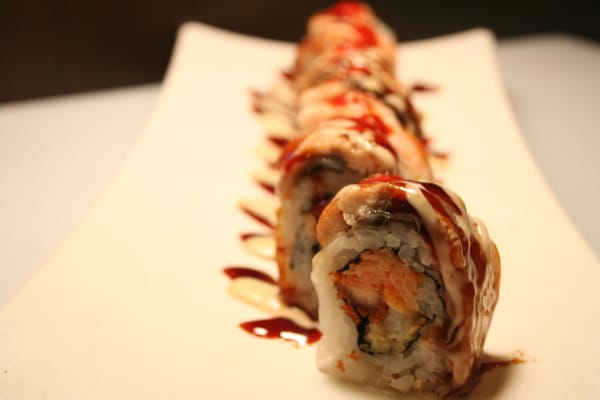curry: (2, 15, 587, 394)
